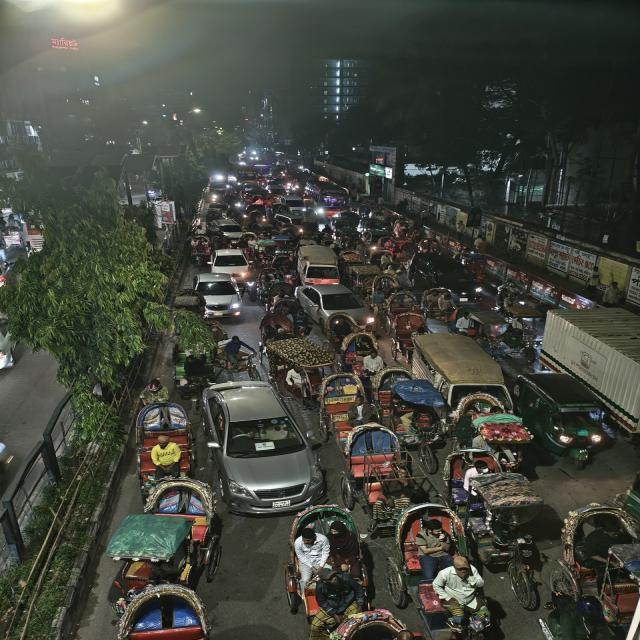bus: (494, 264, 637, 324), (306, 180, 352, 218)
car: (201, 379, 326, 517), (408, 251, 486, 301), (298, 282, 378, 330), (191, 272, 246, 320), (206, 247, 254, 277), (218, 222, 255, 242)
cng: (520, 370, 612, 460)
human_hauler: (411, 337, 497, 392), (296, 243, 344, 284)
rickshaw: (101, 489, 225, 640), (447, 452, 548, 588), (551, 499, 640, 640), (278, 504, 370, 637), (388, 511, 486, 632), (339, 418, 409, 524), (130, 395, 196, 477), (261, 324, 326, 398), (461, 395, 535, 449), (319, 372, 363, 432), (385, 293, 427, 355), (393, 406, 446, 446), (212, 336, 259, 381), (337, 330, 379, 369), (420, 286, 459, 322), (366, 273, 398, 303), (186, 233, 212, 263)
truck: (546, 310, 640, 406)
